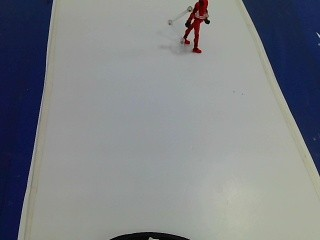pedestrian: (181, 0, 217, 59)
